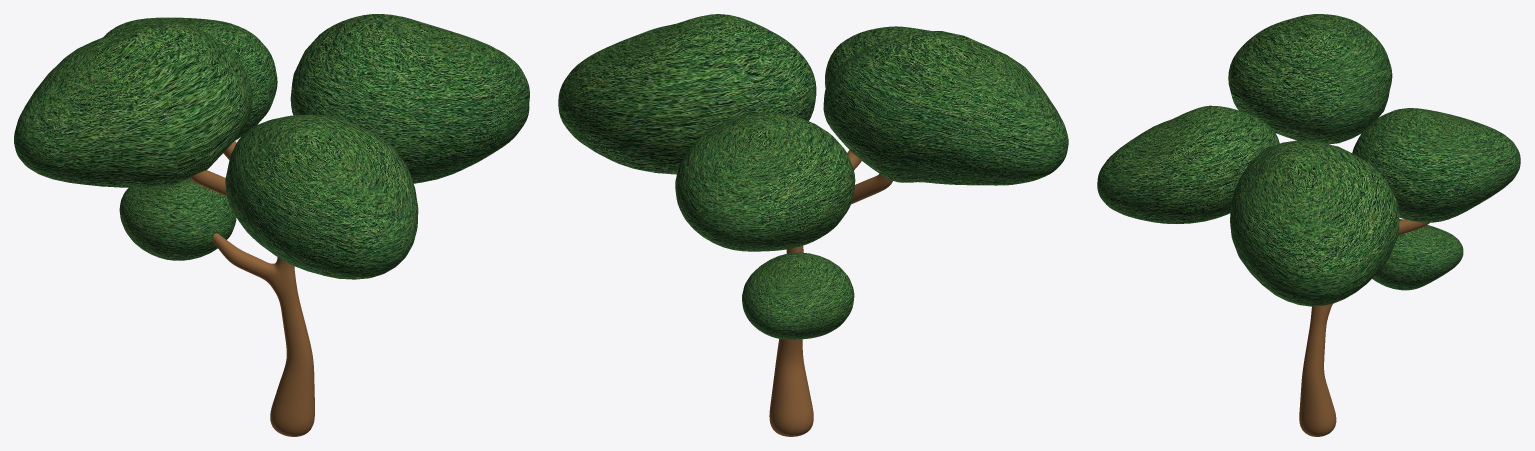
Rendered from Pohon.fbx.
3 views of the same model, side by side, from view 1: azimuth 30°, elevation 25°; view 2: azimuth 150°, elevation 25°; view 3: azimuth 270°, elevation 25° (orthographic). The views are drawn at different scales.
Visible parts, largest first — view 1: Sphere.002; view 2: Sphere.002; view 3: Sphere.002.
Boxes of the visible parts, box(x1,y1,x2,y2) form: Sphere.002: box(14, 14, 529, 436); Sphere.002: box(558, 14, 1068, 436); Sphere.002: box(1097, 14, 1520, 436).
Bounding box in the file's own units: 365 × 303 × 327.
2 materials, 2 textured.
